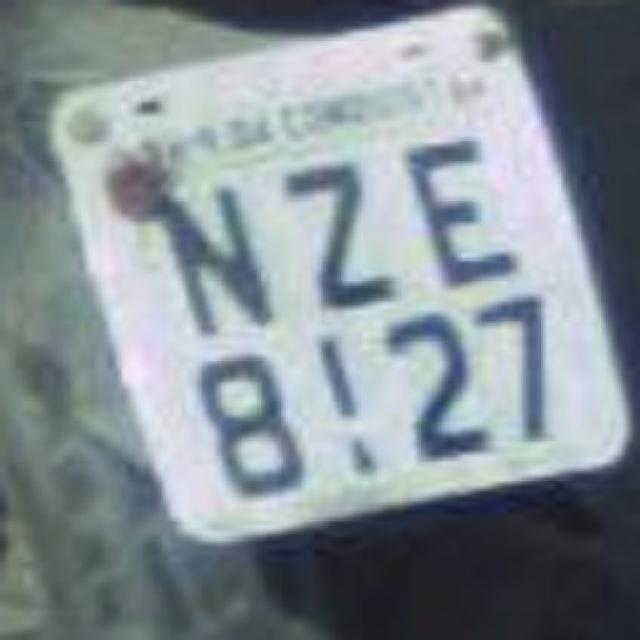2: (364, 296, 491, 472)
7: (452, 280, 576, 448)
8: (180, 324, 315, 508)
E: (391, 128, 524, 292)
N: (131, 168, 284, 348)
Z: (271, 148, 404, 312)
